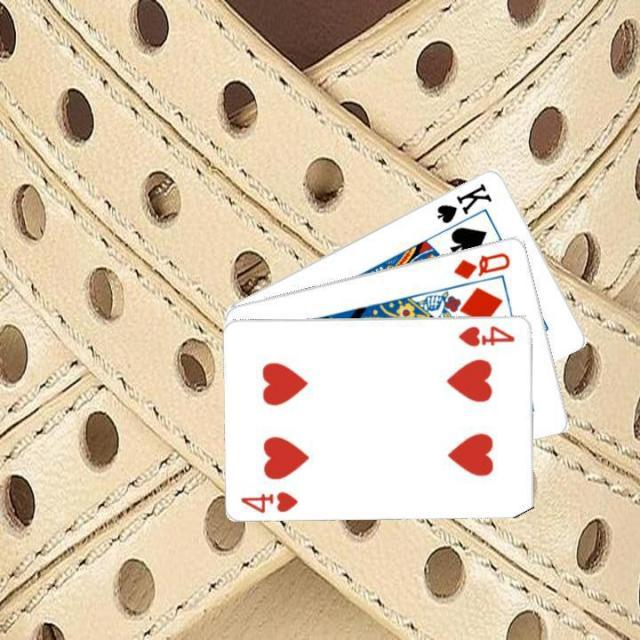4H: (238, 487, 300, 515), (455, 321, 517, 348)
KS: (432, 179, 494, 225)
QD: (450, 248, 513, 281)
